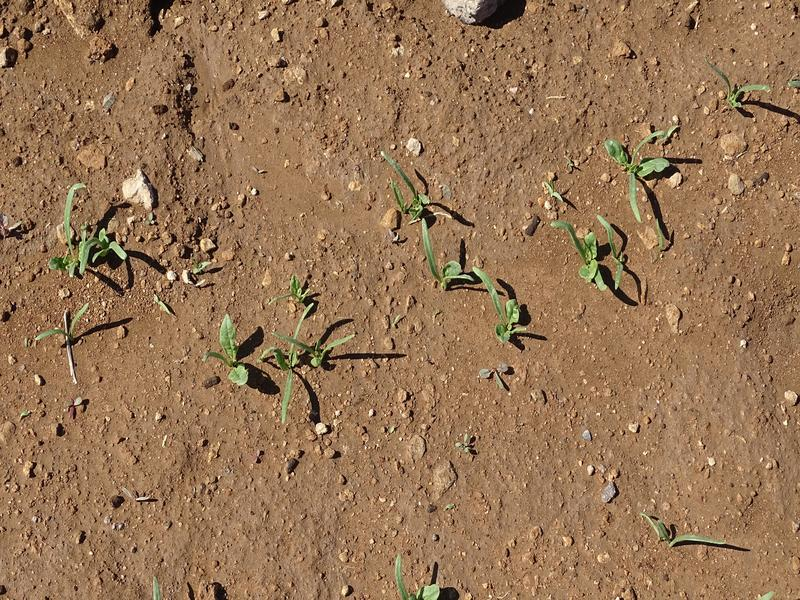Espinaca: (385, 159, 524, 344), (562, 118, 675, 293), (223, 270, 336, 413), (56, 183, 134, 271), (708, 59, 771, 123), (36, 297, 92, 354)
